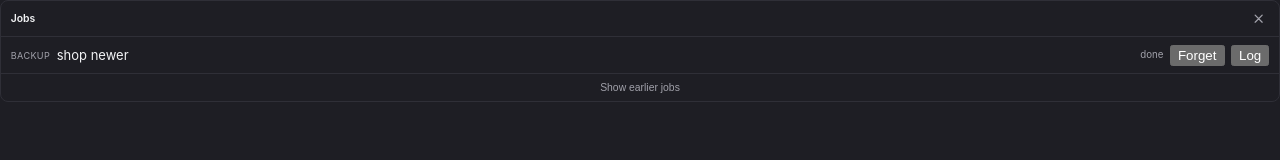
Test: the jobs panel › walks back through the history a page at a time
Expected: the text "shop newer" is shown, [57, 47, 129, 63]
Expected: the text "shop older" is not shown
Click the button "Show earlier jobs": (640, 88) [590, 74, 690, 101]
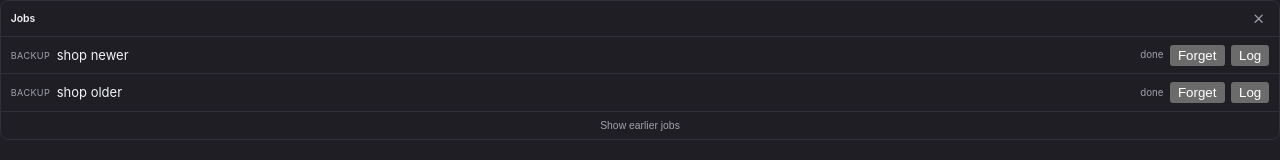
Expected: the text "shop older" is shown, [57, 84, 122, 100]
